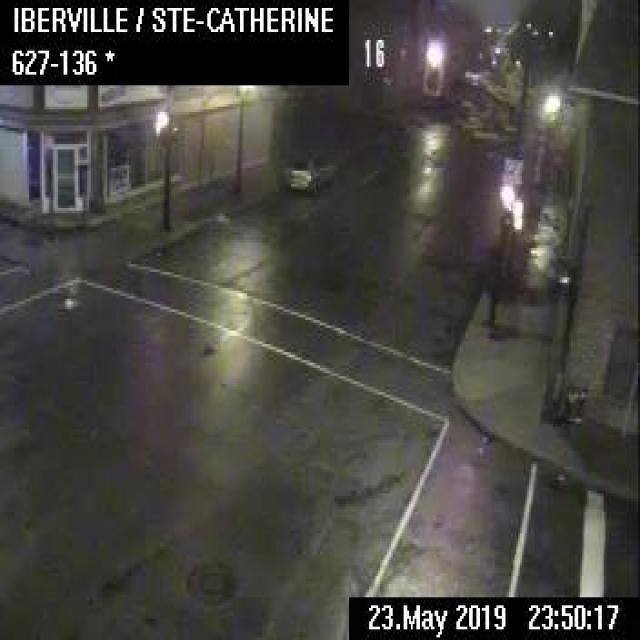vehicle: (286, 155, 320, 192)
